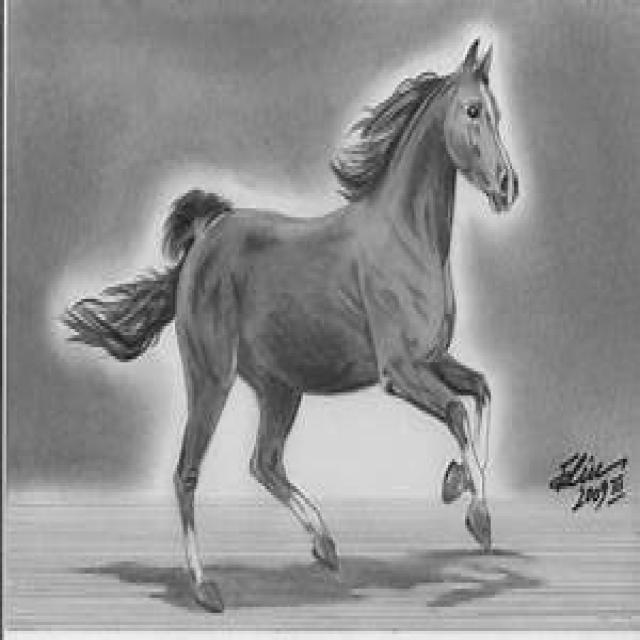horse: (166, 41, 519, 604)
